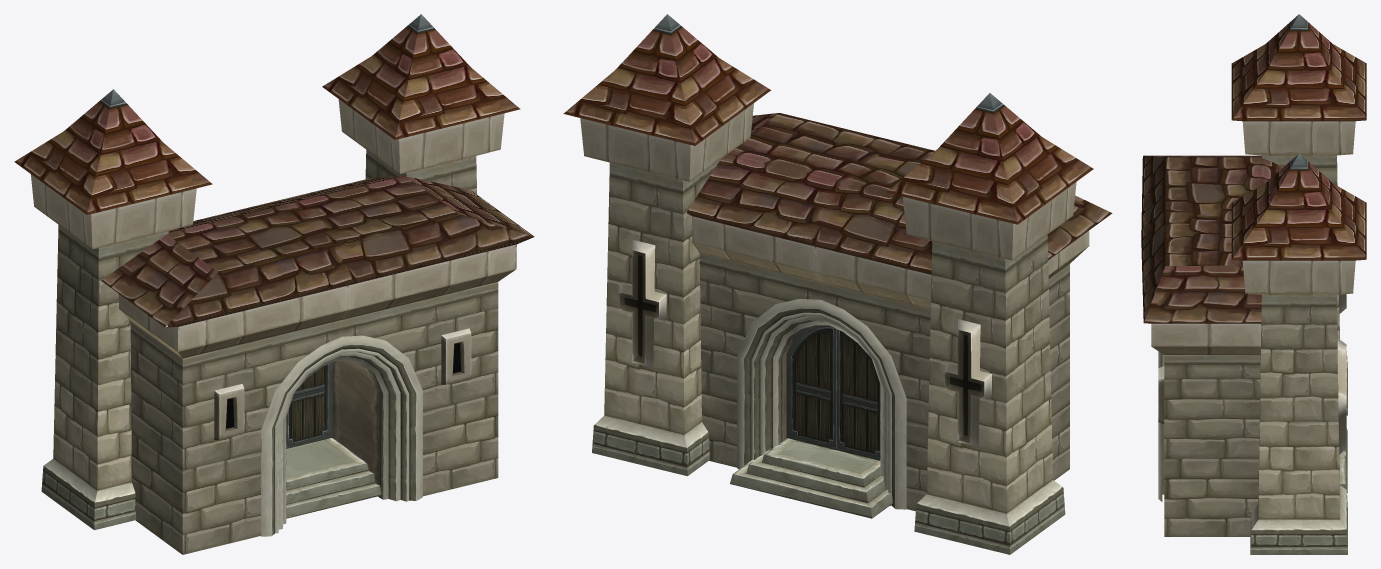
The model's file is Fortress_Gate.FBX.
3 views of the same model, side by side, from view 1: azimuth 30°, elevation 25°; view 2: azimuth 150°, elevation 25°; view 3: azimuth 270°, elevation 25° (orthographic). The views are drawn at different scales.
Visible parts, largest first — view 1: Fortress_Gate, Gate_Left; view 2: Fortress_Gate, Gate_Left, Gate_Right005; view 3: Fortress_Gate.
Part boxes in pixels (x1=…): Fortress_Gate: x1=14, y1=14, x2=534, y2=554; Gate_Left: x1=286, y1=362, x2=333, y2=448; Fortress_Gate: x1=563, y1=14, x2=1112, y2=554; Gate_Left: x1=786, y1=325, x2=836, y2=449; Gate_Right005: x1=837, y1=329, x2=880, y2=460; Fortress_Gate: x1=1141, y1=14, x2=1366, y2=554.
Size of the model in its own units: 2046 by 1856 by 992.
